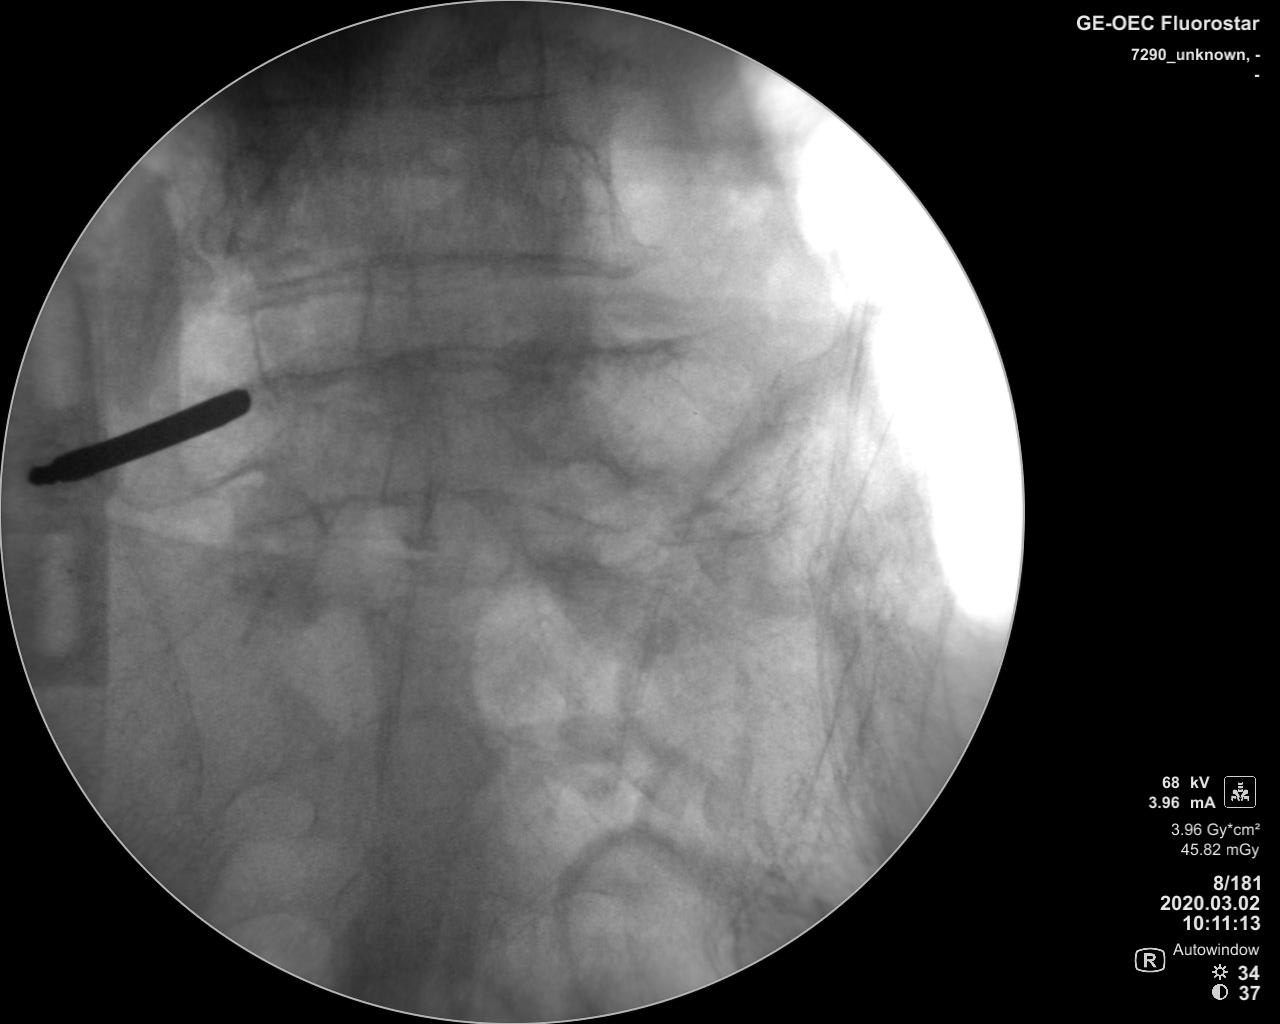eyes: (507, 130, 588, 213)
line: (229, 488, 637, 548), (253, 331, 668, 386), (240, 250, 635, 288), (234, 84, 561, 114)
nose: (359, 228, 433, 387), (375, 408, 436, 548)
